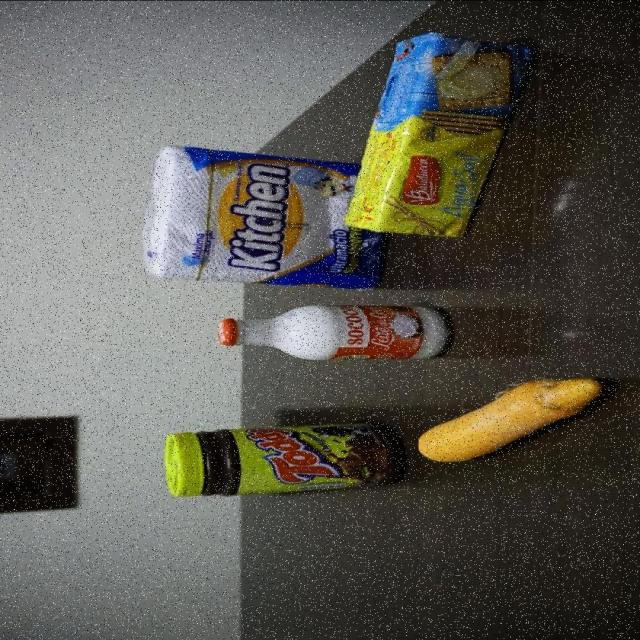Carrot: (414, 374, 606, 466)
ChocolatePowder: (163, 420, 408, 497)
CoconutMilk: (215, 303, 452, 362)
Cracker: (343, 31, 539, 242)
Napkin: (140, 143, 398, 293)
